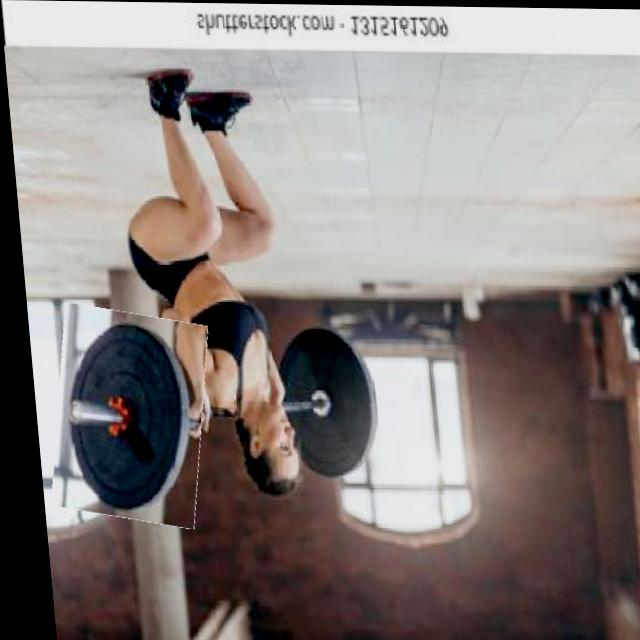barbell: (37, 307, 209, 525)
